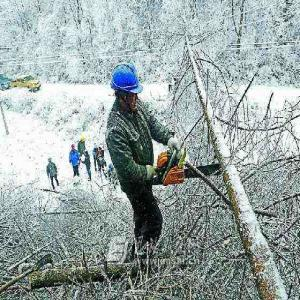blue: (110, 61, 142, 114)
